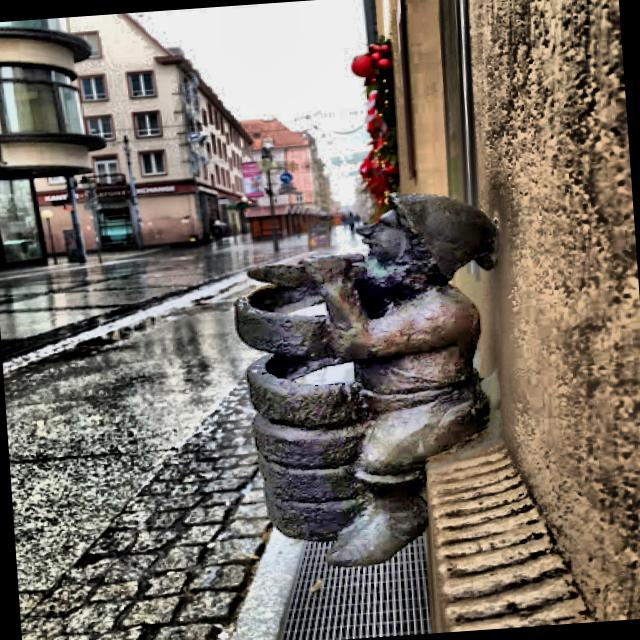Czimnejek: (220, 172, 532, 584)
